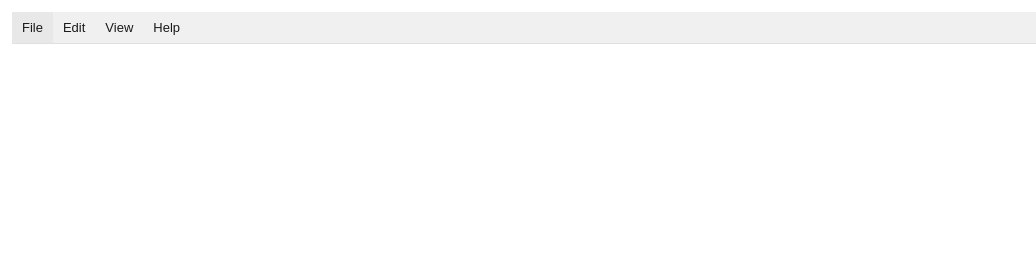
Test: Toolbar › menu buttons › opens dropdown when a menu button is clicked
What coordinates should you click on to do the following:
click the button "File"
I would click on:
 (32, 28)
Its box is left=12, top=12, right=53, bottom=43.
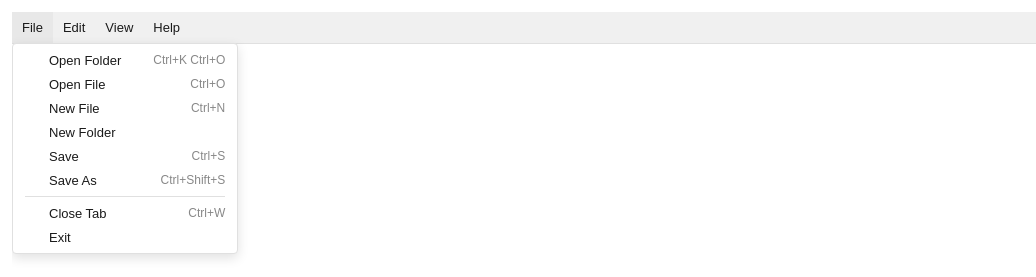
Result: the element that starts with "Open Folder" is shown at left=12, top=43, right=238, bottom=254
